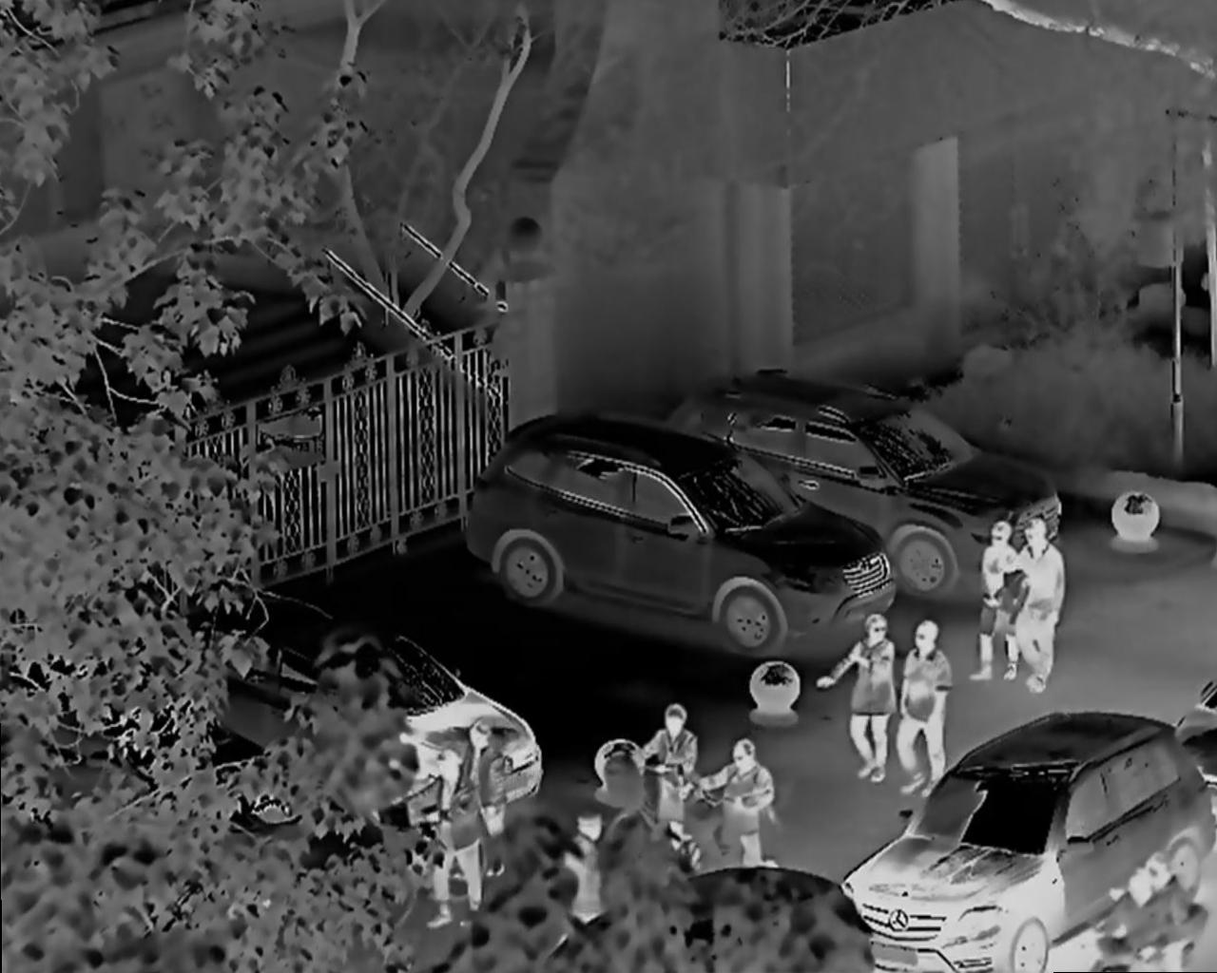person: (829, 613, 896, 779), (711, 740, 790, 878), (892, 621, 953, 773), (426, 749, 472, 915), (640, 696, 695, 830), (1021, 525, 1058, 676), (980, 521, 1011, 696), (1149, 837, 1187, 970), (463, 726, 507, 829), (1113, 871, 1155, 965)
